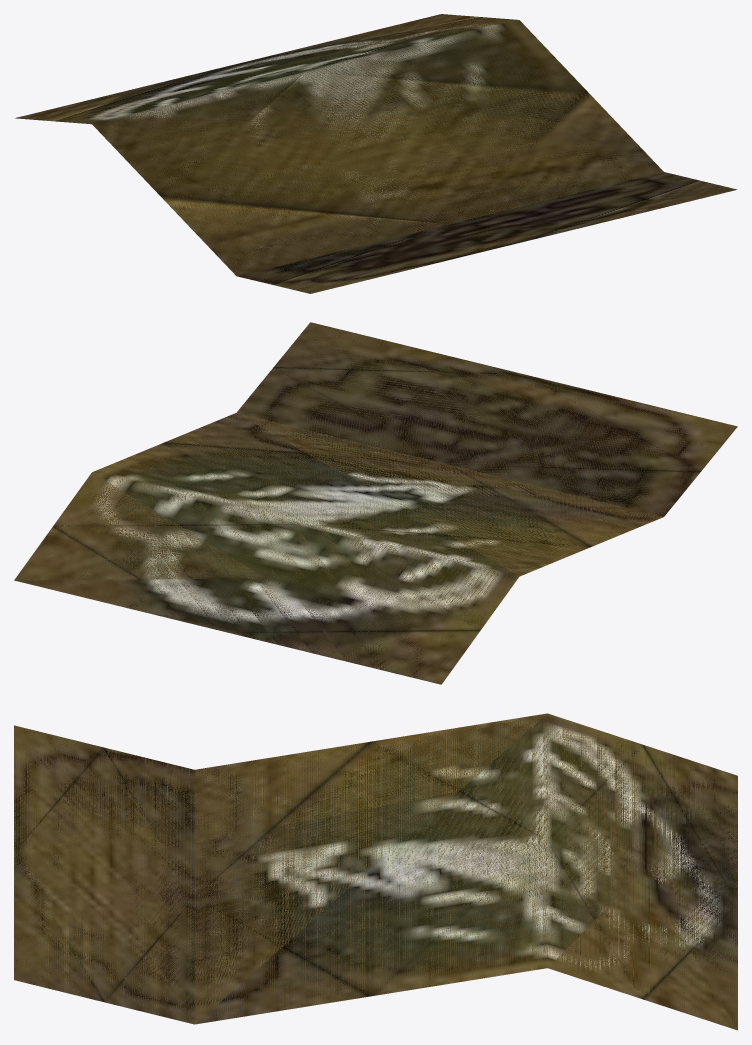
The model's file is ITSC_WATER05.glb.
3 renders of one model, top to bottom at view 1: azimuth 30°, elevation 25°; view 2: azimuth 150°, elevation 25°; view 3: azimuth 270°, elevation 25°, orthographic. The views are drawn at different scales.
Visible parts, largest first — view 1: Mesh; view 2: Mesh; view 3: Mesh.
Part boxes in pixels (x1=…): Mesh: x1=15, y1=14, x2=737, y2=293; Mesh: x1=14, y1=322, x2=737, y2=684; Mesh: x1=14, y1=713, x2=737, y2=1030.
Size of the model in its own units: 0.46 by 0.0525 by 0.5524.
Materials: 1 (1 with a texture image).
